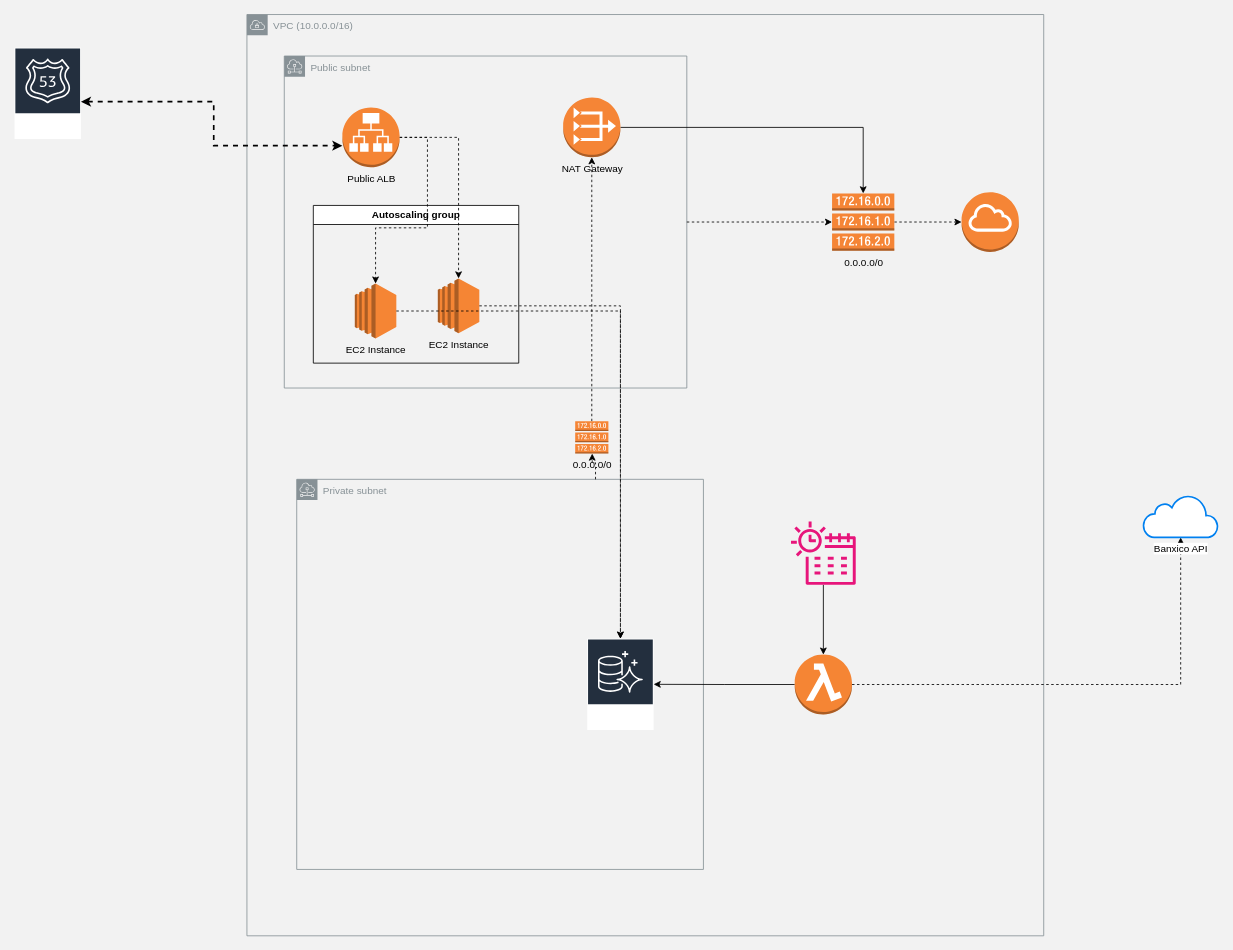
Some shapes in this 1233 by 950 pixel diagram are drawn without their labels. The shapes that lost their labels are listed below. From the top down, each one's centre as x and y in pixels, then its label:
At pixel 47 93: "DNS A-Record".
At pixel 990 221: "Internet gateway".
At pixel 823 552: "Eventbridge".
At pixel 620 684: "Amazon Aurora".
At pixel 823 684: "Lambda function for Data pulling".
